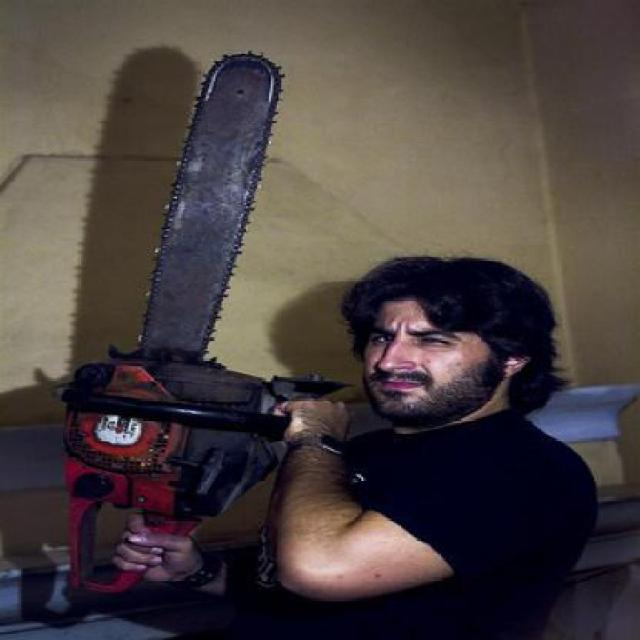Chainsaw: (59, 46, 348, 597)
